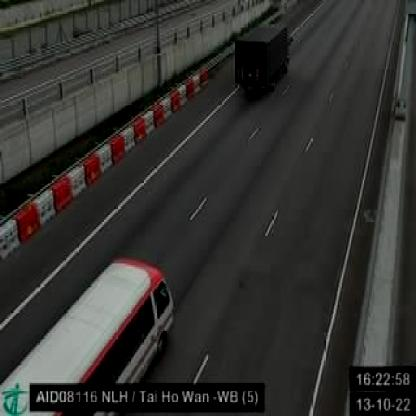Bus: (5, 260, 176, 394)
Truck: (235, 18, 293, 94)
